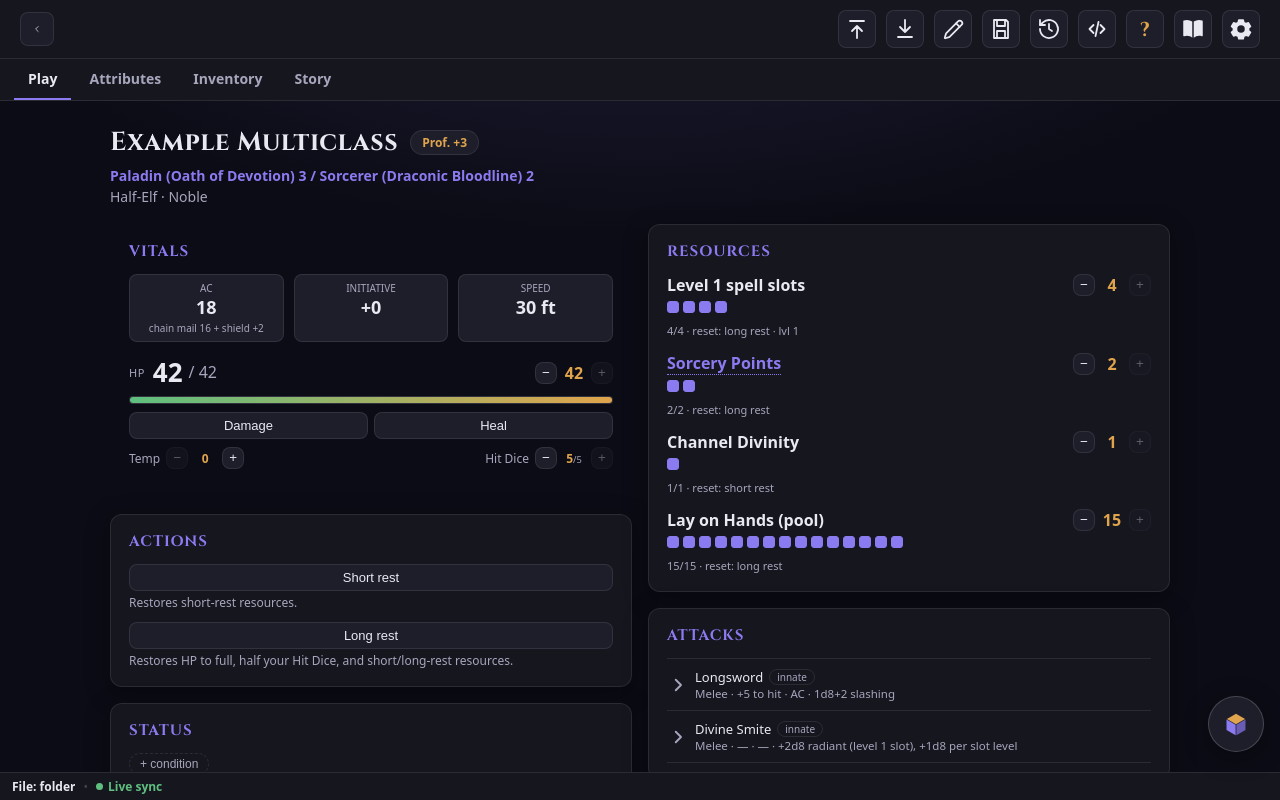
it: App — empty state + live editing wiring › shows Save version for a versioned folder and confirms only after the snapshot resolves
What coordinates should you click on to do the following:
click the button named "Save version"
I would click on:
 (1001, 29)
Its box is left=982, top=10, right=1020, bottom=48.
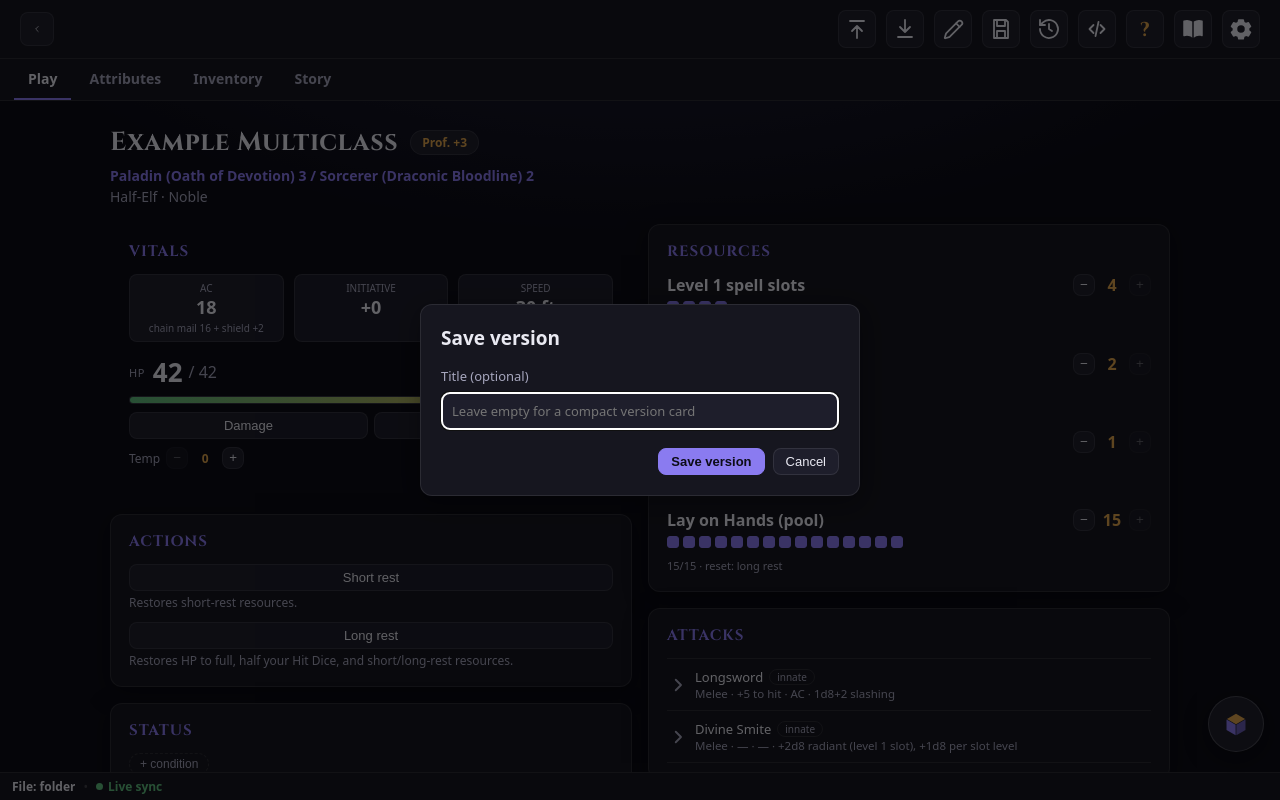
What coordinates should you click on to do the following:
click the button "Save version"
I would click on:
 (711, 462)
Its box is left=658, top=448, right=764, bottom=475.
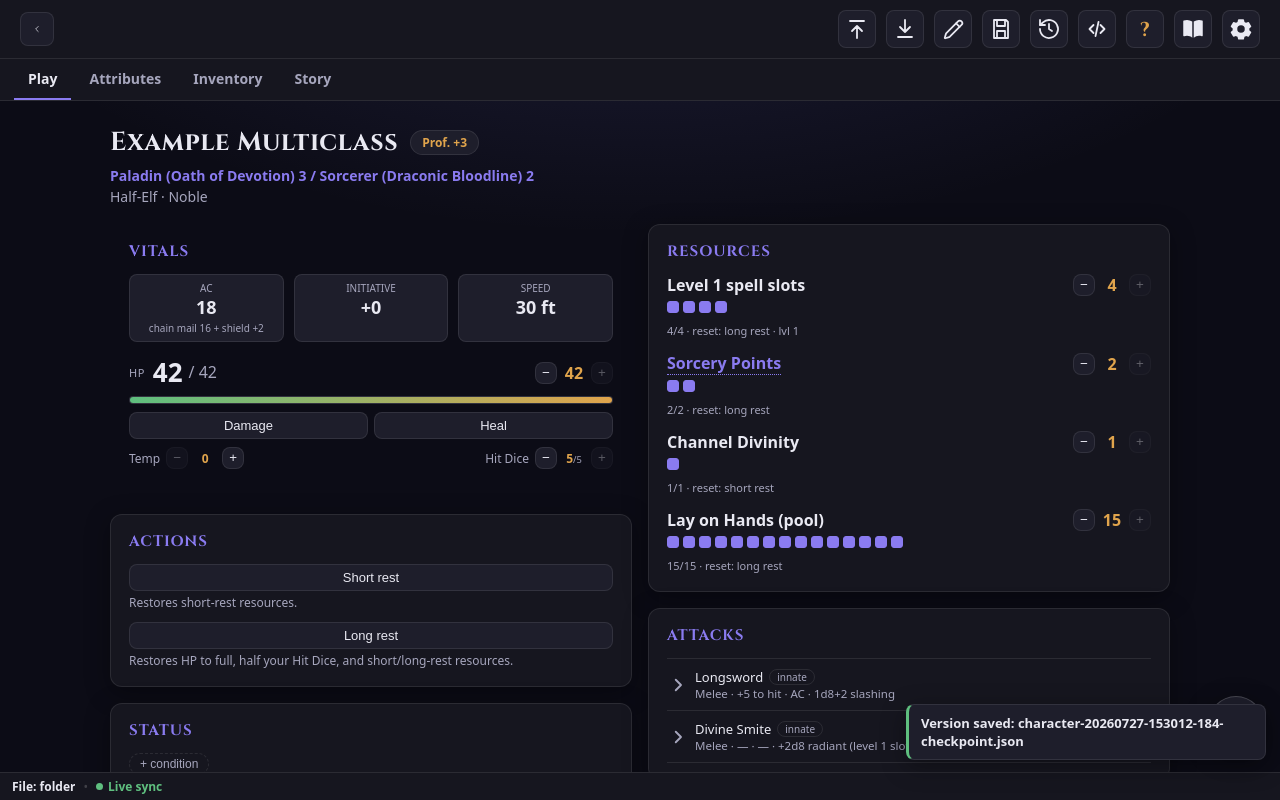
Check: the text "Version saved: character-20260727-153012-184-checkpoint.json" is shown, box left=921, top=714, right=1253, bottom=750
